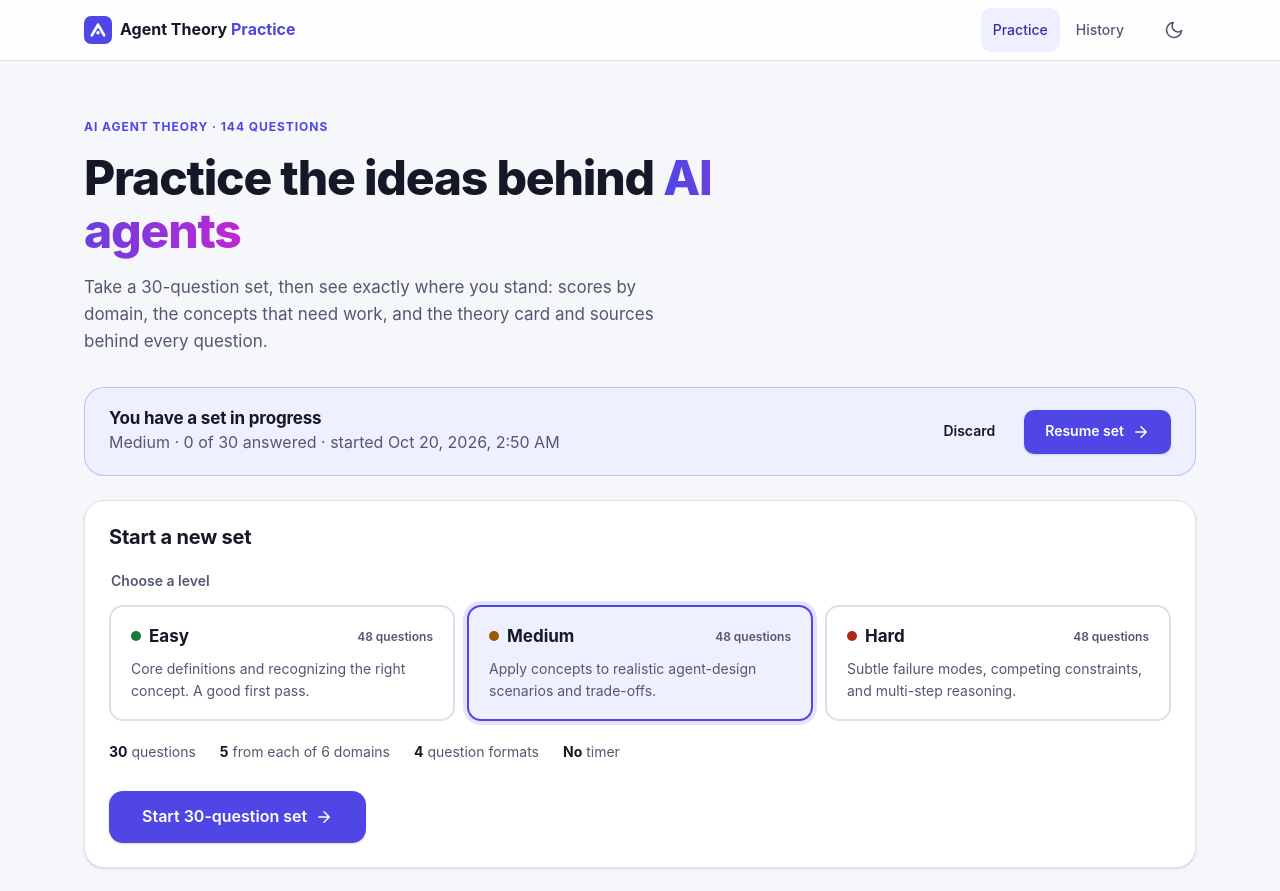
Test: HomePage › offers to resume or discard a set in progress, and confirms before replacing it
The image size is (1280, 891).
Expected: the heading "You have a set in progress" is shown, top-left (109, 408), bottom-right (322, 428)
Click the button "Start 30-question set".
click(238, 817)  # box top-left (109, 791), bottom-right (366, 843)
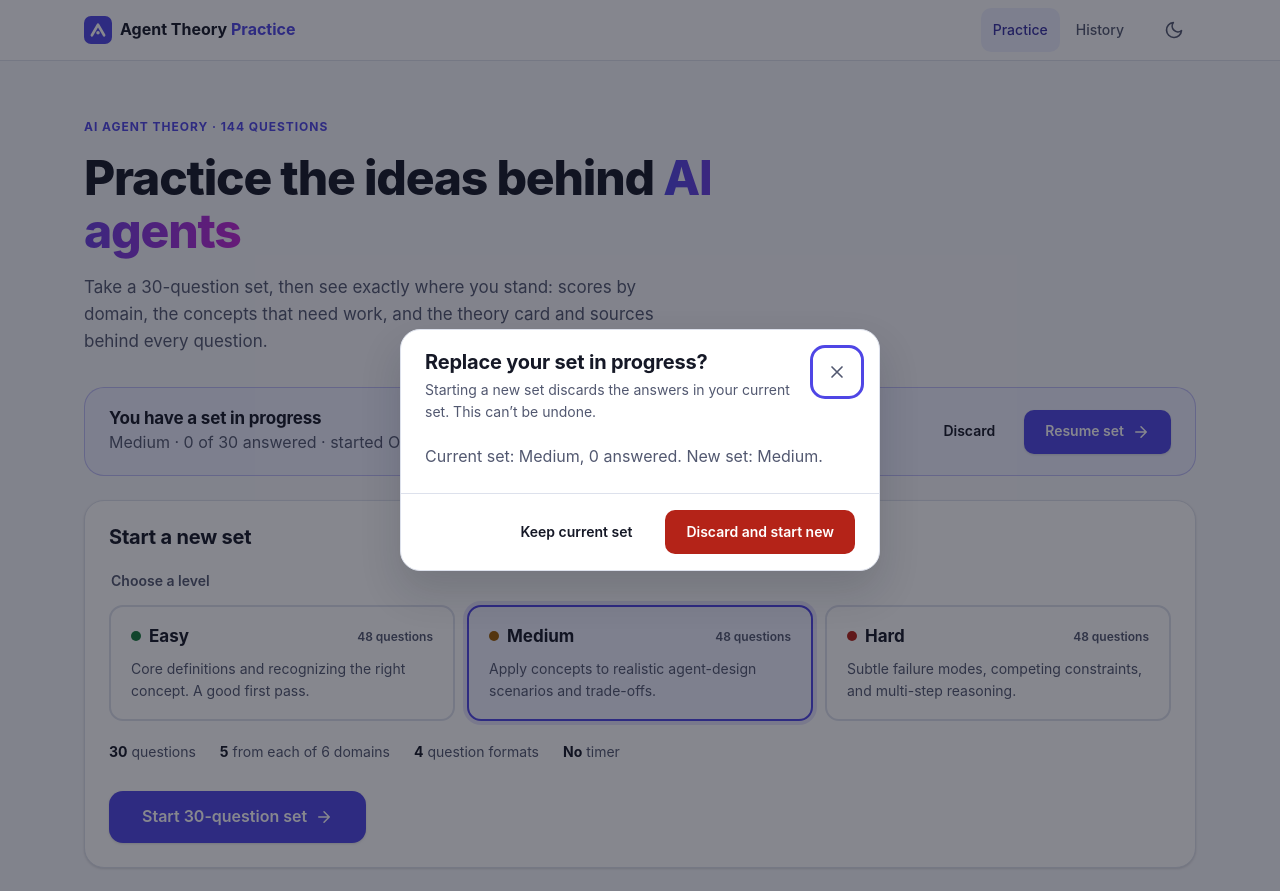
Click the button "Keep current set".
click(576, 532)  # box top-left (499, 510), bottom-right (653, 554)
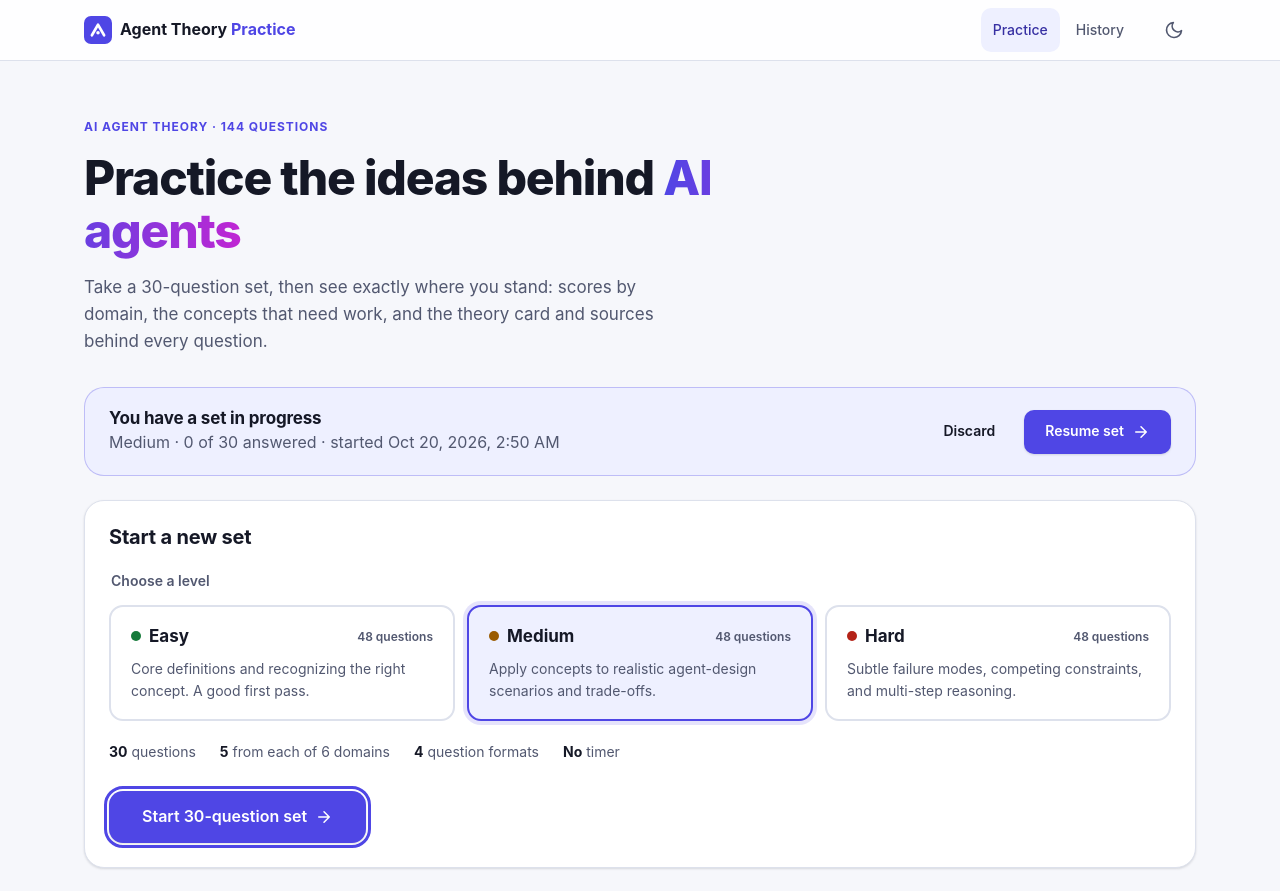
Expected: the dialog is gone
Click the button "Discard".
click(969, 432)  # box top-left (922, 410), bottom-right (1016, 454)
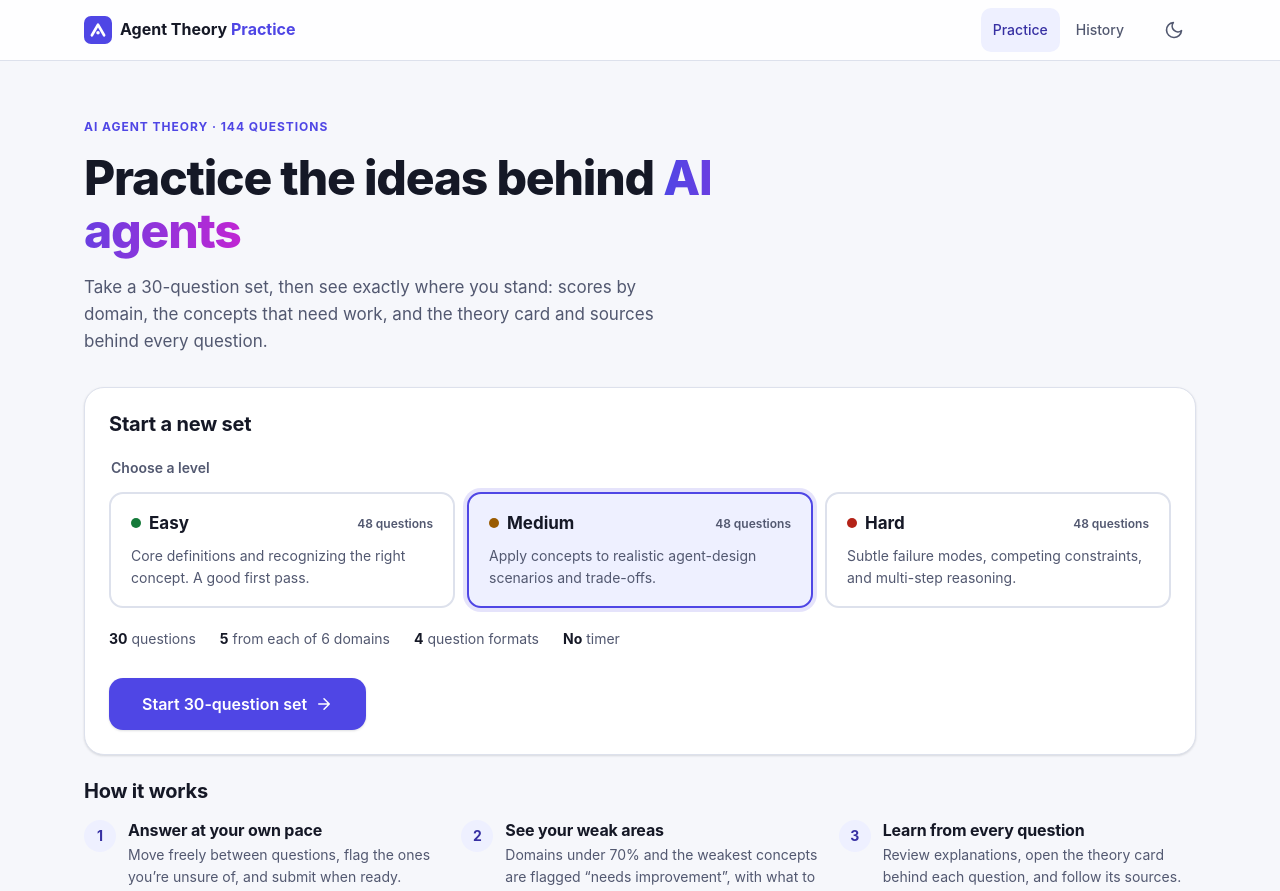
Expected: the heading "set in progress" is gone
